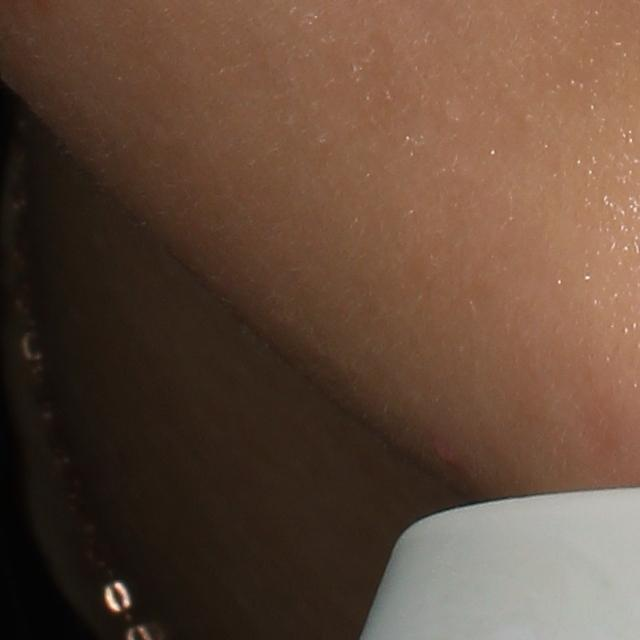papule: (435, 436, 460, 469)
